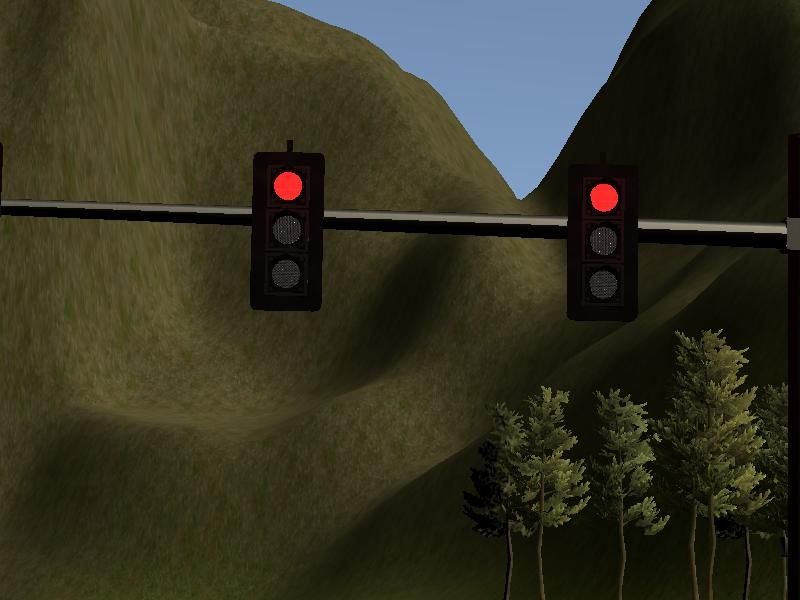red: (249, 148, 330, 317), (564, 159, 640, 324)
